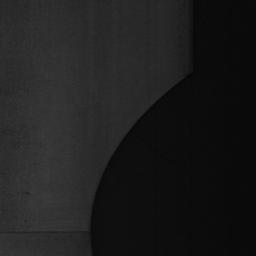Crescent gap: (89, 70, 188, 256)
